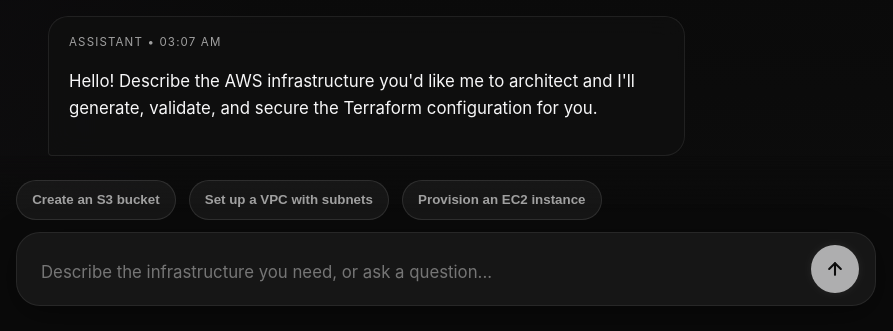
Test: Chat Interface › fills the input from an empty-state suggestion chip
The width and height of the screenshot is (893, 331).
Click the button named "Use suggested prompt: Create an S3 bucket" at (96, 200), box [16,180,176,220]
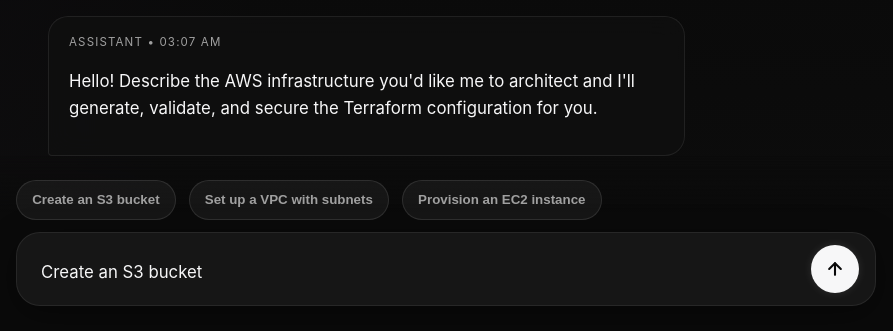
Result: the text box with placeholder "Describe the infrastructure you need, or ask a question..." holds "Create an S3 bucket" at [33,252,795,293]
